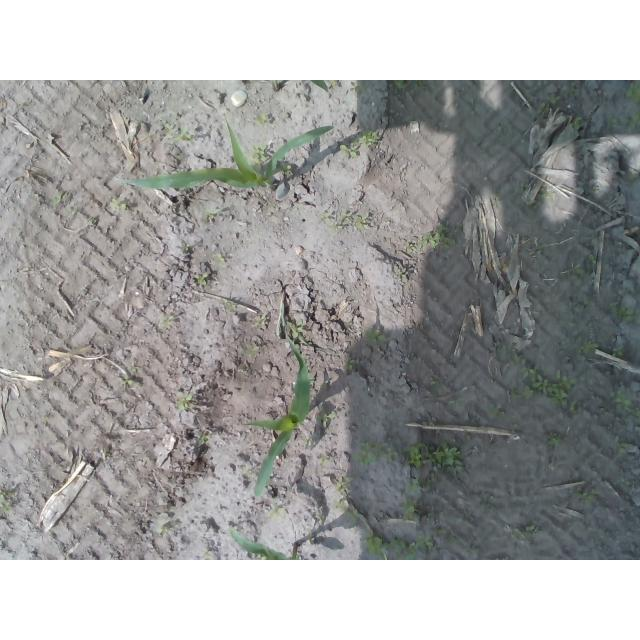Maize: (111, 115, 333, 190), (242, 335, 315, 497), (227, 524, 302, 560), (268, 80, 332, 96)
Weeds: (511, 348, 581, 417), (355, 436, 465, 472), (363, 535, 434, 560), (335, 474, 362, 525), (416, 222, 457, 251), (321, 211, 370, 234), (432, 512, 464, 547), (404, 475, 440, 497), (611, 391, 640, 417), (609, 302, 640, 325), (536, 92, 561, 116), (351, 126, 381, 146), (510, 523, 543, 541), (161, 123, 192, 142), (605, 111, 640, 127), (121, 360, 140, 387), (365, 327, 388, 347), (532, 190, 556, 209), (574, 487, 598, 505), (317, 406, 336, 428), (569, 262, 592, 280), (579, 337, 597, 360), (0, 487, 14, 515), (429, 374, 443, 399), (625, 81, 640, 104), (487, 399, 505, 418), (340, 144, 360, 161), (286, 321, 303, 340), (252, 144, 269, 162), (404, 503, 420, 521), (544, 430, 560, 446), (567, 115, 585, 129), (389, 80, 416, 89), (269, 503, 285, 518), (157, 520, 171, 537), (449, 396, 468, 408), (160, 315, 175, 330), (50, 190, 64, 206), (108, 198, 125, 211), (177, 396, 192, 410), (194, 274, 210, 287), (342, 358, 358, 371), (403, 239, 416, 254), (255, 317, 270, 329), (613, 344, 624, 360), (215, 253, 226, 268), (616, 441, 628, 454), (257, 113, 271, 124), (280, 162, 292, 174), (400, 267, 409, 281), (519, 183, 530, 193), (319, 456, 329, 466), (589, 253, 598, 263), (88, 218, 96, 227)
